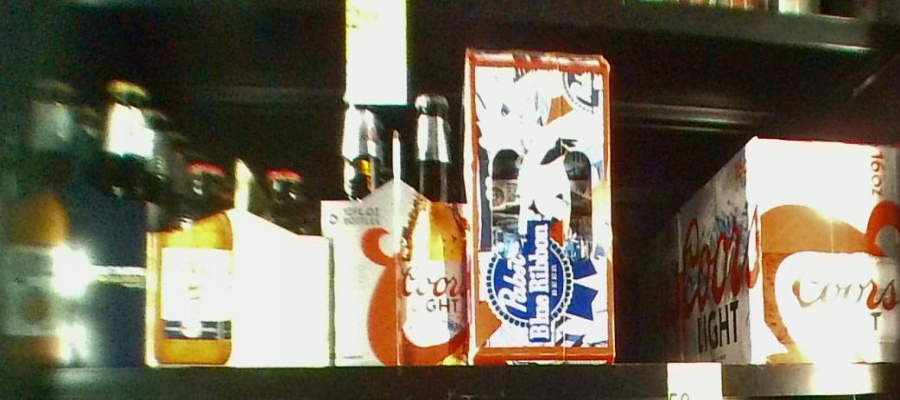bottle: (677, 136, 900, 356), (465, 50, 613, 363), (6, 79, 145, 370), (330, 89, 469, 368), (150, 161, 327, 365)
